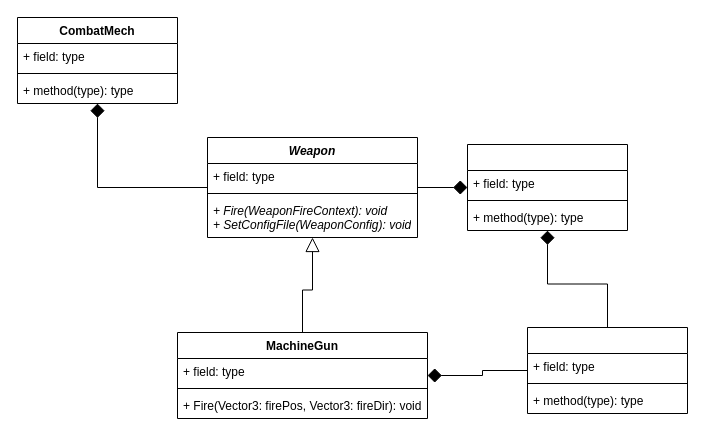
The diagram is 705 pixels wide and 439 high, and some of its shapes have lost their labels. The shapes that lost their labels are listed below. From the top down, each one's box as (x1, y1, x2, y2) in pixels, then its label:
(466, 144, 628, 230): WeaponConfig
(526, 326, 688, 414): HumanGunman
